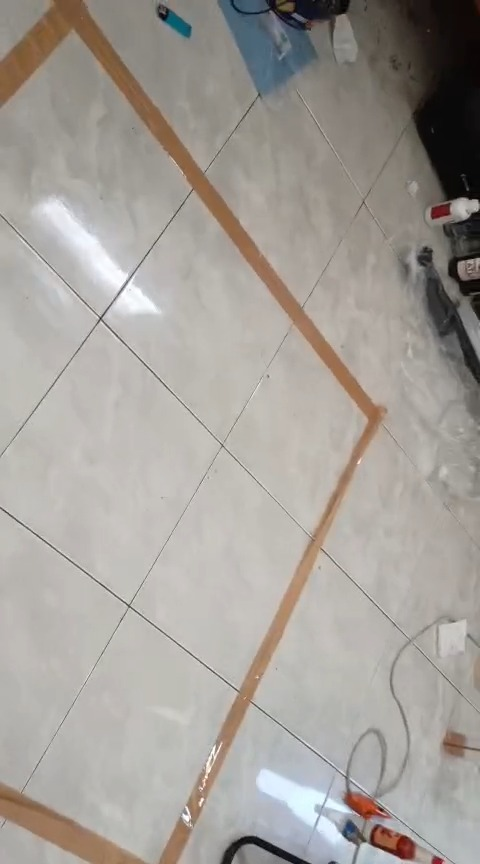floor marking: (2, 0, 385, 863), (0, 782, 141, 863)
